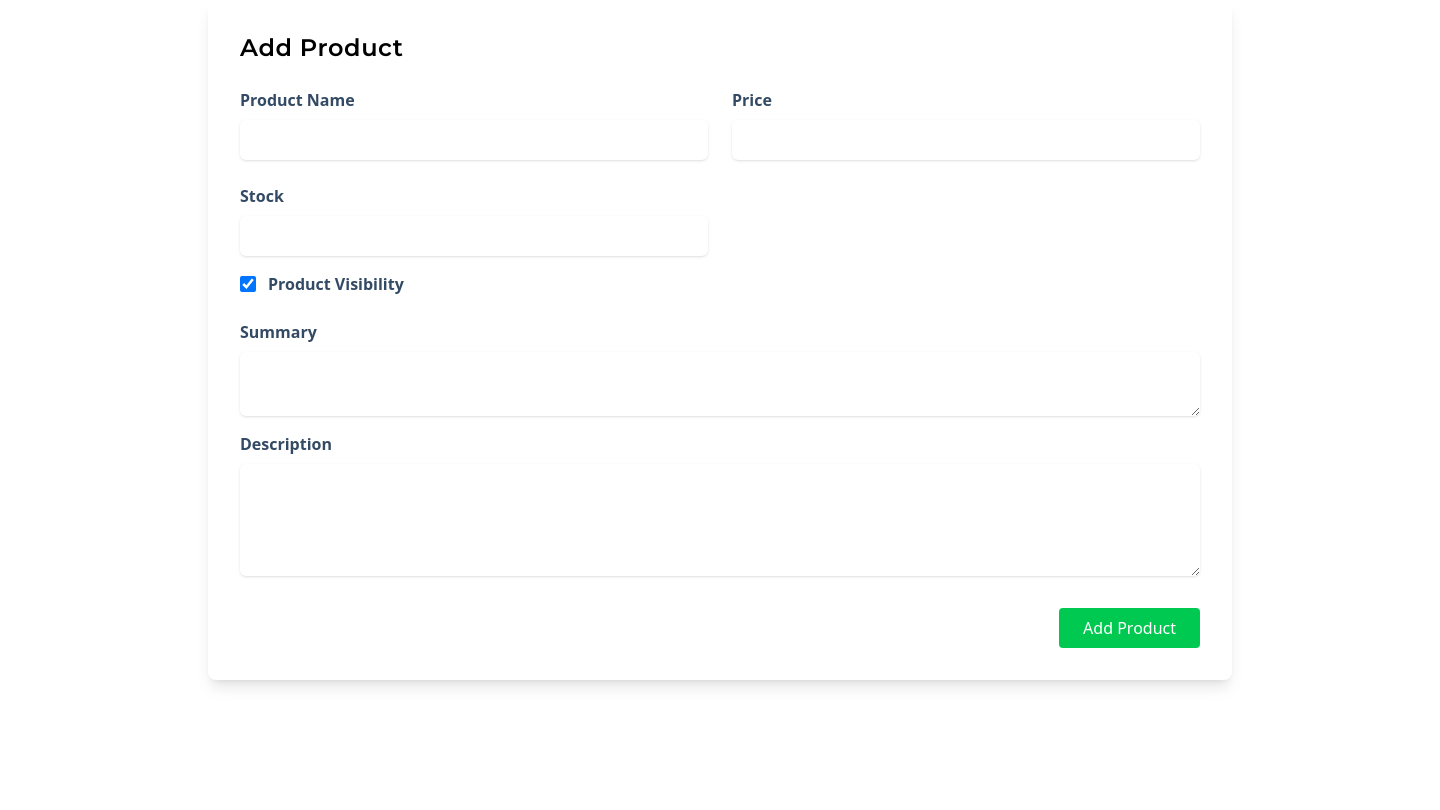
ProductForm Component › shows validation errors for required fields
This screenshot has width=1440, height=810.
Submit the form without filling required fields
Click the button "Add Product": point(1130, 628) [1059,608,1200,648]
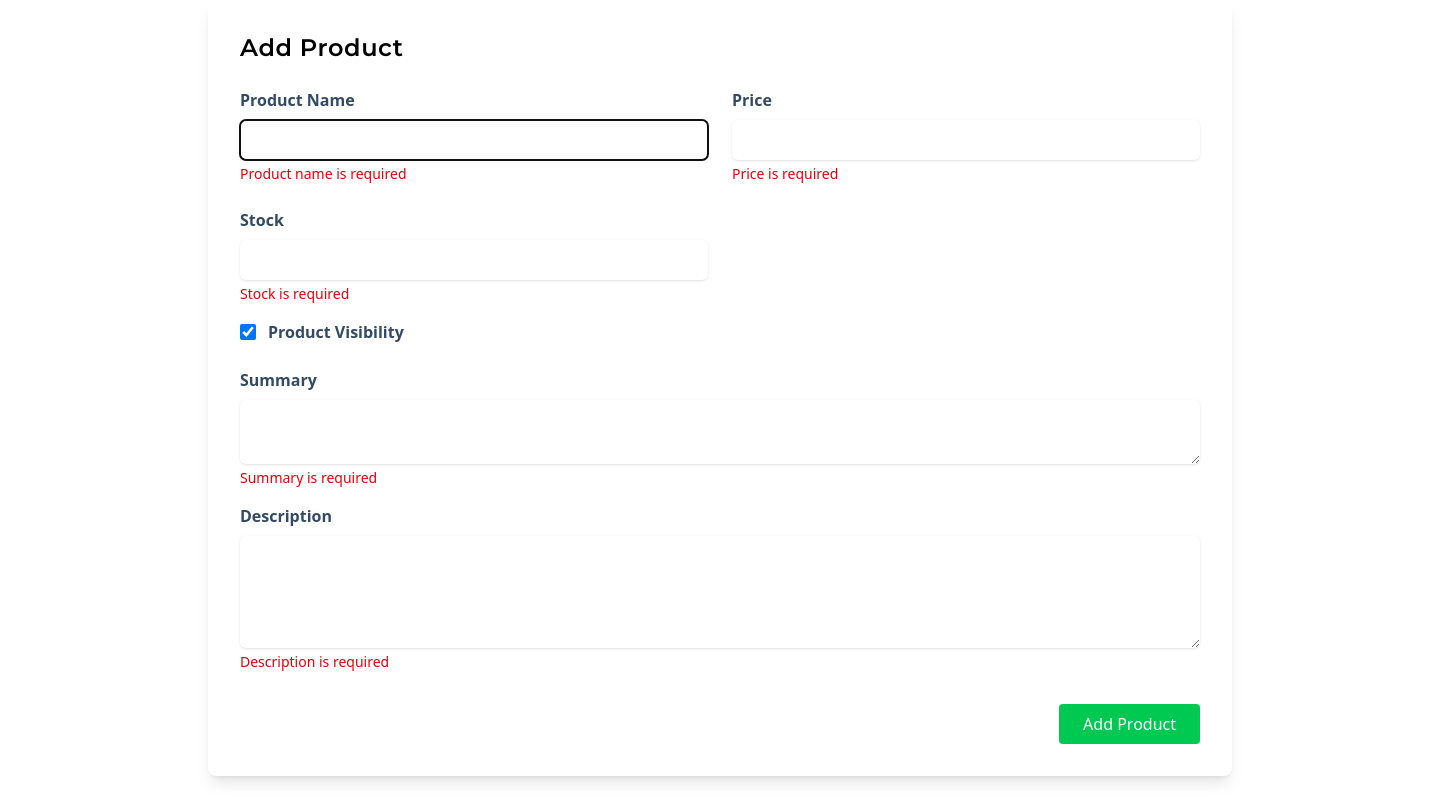
Now the text "Product name is required" is shown, box [240,164,406,183]
Now the text "Price is required" is shown, box [732,164,838,183]
Now the text "Stock is required" is shown, box [240,284,349,303]
